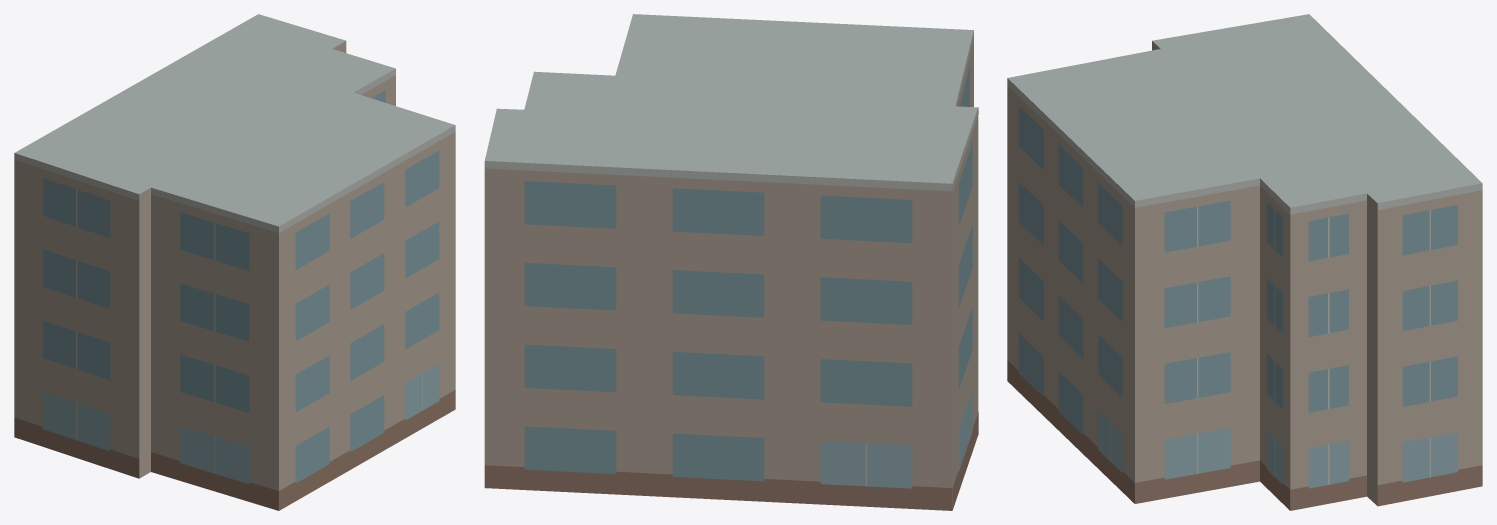
Rendered from survey-upis-32712637.glb.
3 renders of one model, left to right at view 1: azimuth 30°, elevation 25°; view 2: azimuth 150°, elevation 25°; view 3: azimuth 270°, elevation 25°, orthographic. The views are drawn at different scales.
Parts seen in each view (by area): view 1: survey-upis-32712637.tmp; view 2: survey-upis-32712637.tmp; view 3: survey-upis-32712637.tmp.
Boxes of the visible parts, left/top/right/bottom form: survey-upis-32712637.tmp: left=14, top=14, right=455, bottom=510; survey-upis-32712637.tmp: left=484, top=14, right=978, bottom=510; survey-upis-32712637.tmp: left=1007, top=14, right=1482, bottom=510.
Size of the model in its own units: 14.55 by 10.6 by 15.07.
